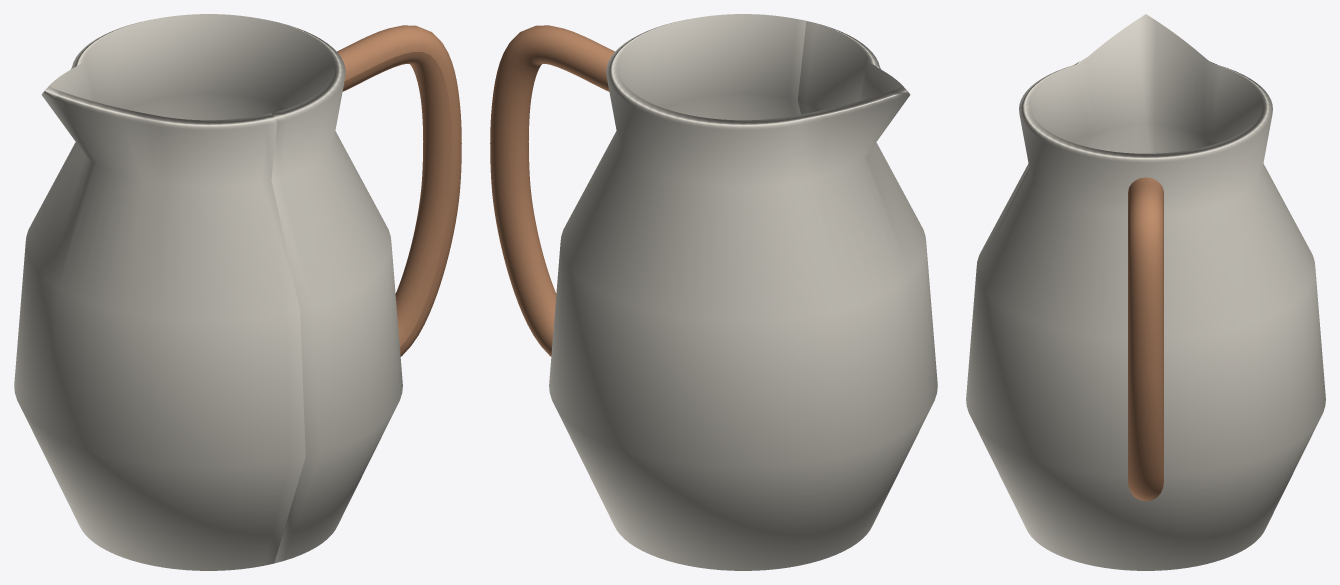
File: ceramic_pitcher.glb
The picture shows the model from 3 angles, left to right: view 1: azimuth 30°, elevation 25°; view 2: azimuth 150°, elevation 25°; view 3: azimuth 270°, elevation 25°; orthographic projection. The views are drawn at different scales.
Bounding box in the file's own units: 1.69 × 1.81 × 1.36.
